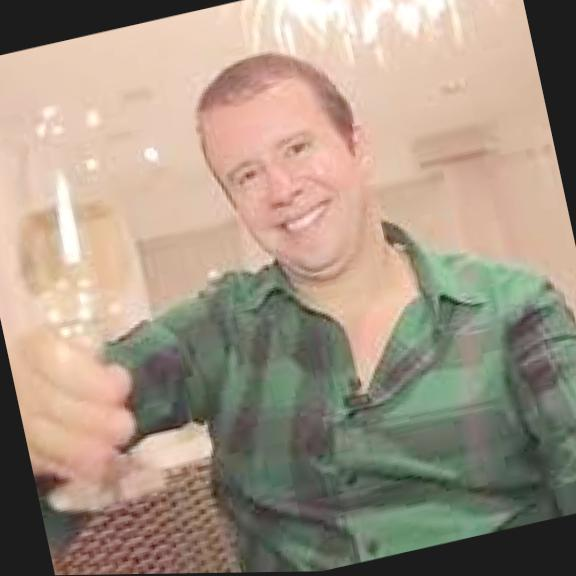no_safety_vest: (107, 184, 576, 574)
